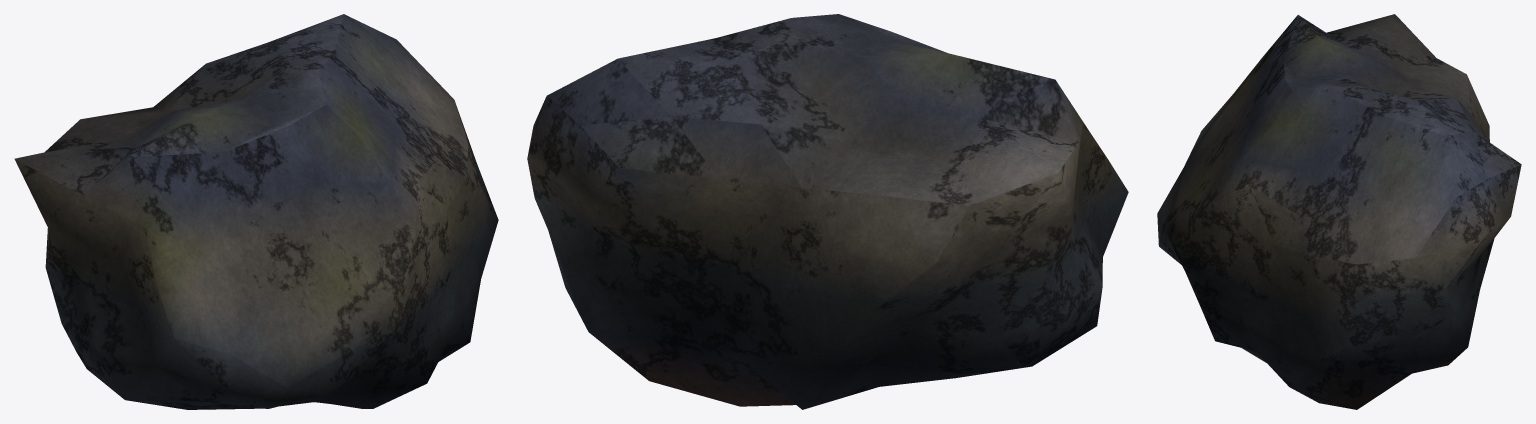
Rendered from boulder_a.glb.
The picture shows the model from 3 angles, left to right: view 1: azimuth 30°, elevation 25°; view 2: azimuth 150°, elevation 25°; view 3: azimuth 270°, elevation 25°; orthographic projection. The views are drawn at different scales.
Parts seen in each view (by area): view 1: boulder_a; view 2: boulder_a; view 3: boulder_a.
Part boxes in pixels (left/top/right/bottom): boulder_a: left=14, top=14, right=498, bottom=409; boulder_a: left=527, top=14, right=1128, bottom=409; boulder_a: left=1157, top=14, right=1521, bottom=409.
Bounding box in the file's own units: 3.32 × 2.22 × 2.61.
Materials: 1 (1 with a texture image).
